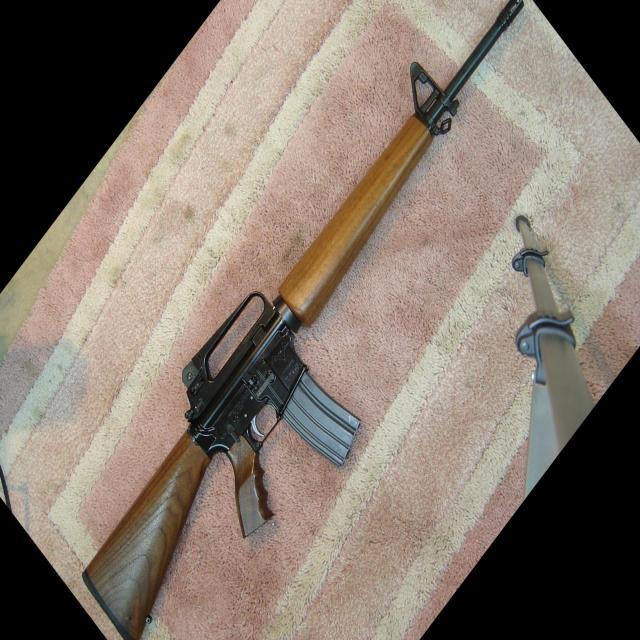weapon: (82, 1, 524, 640)
